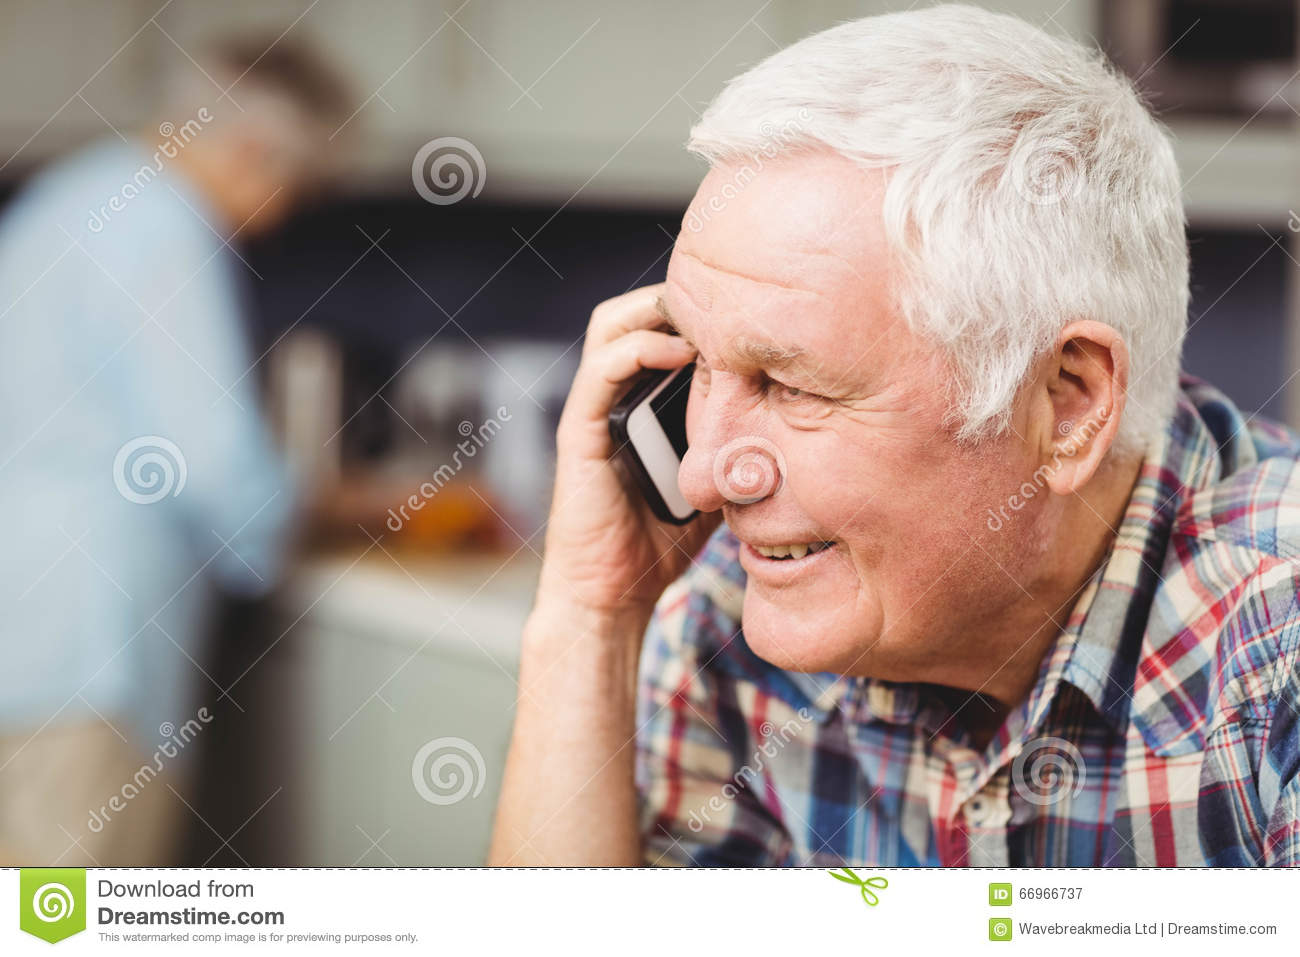phone: (614, 332, 705, 531)
talk: (545, 254, 910, 690)
